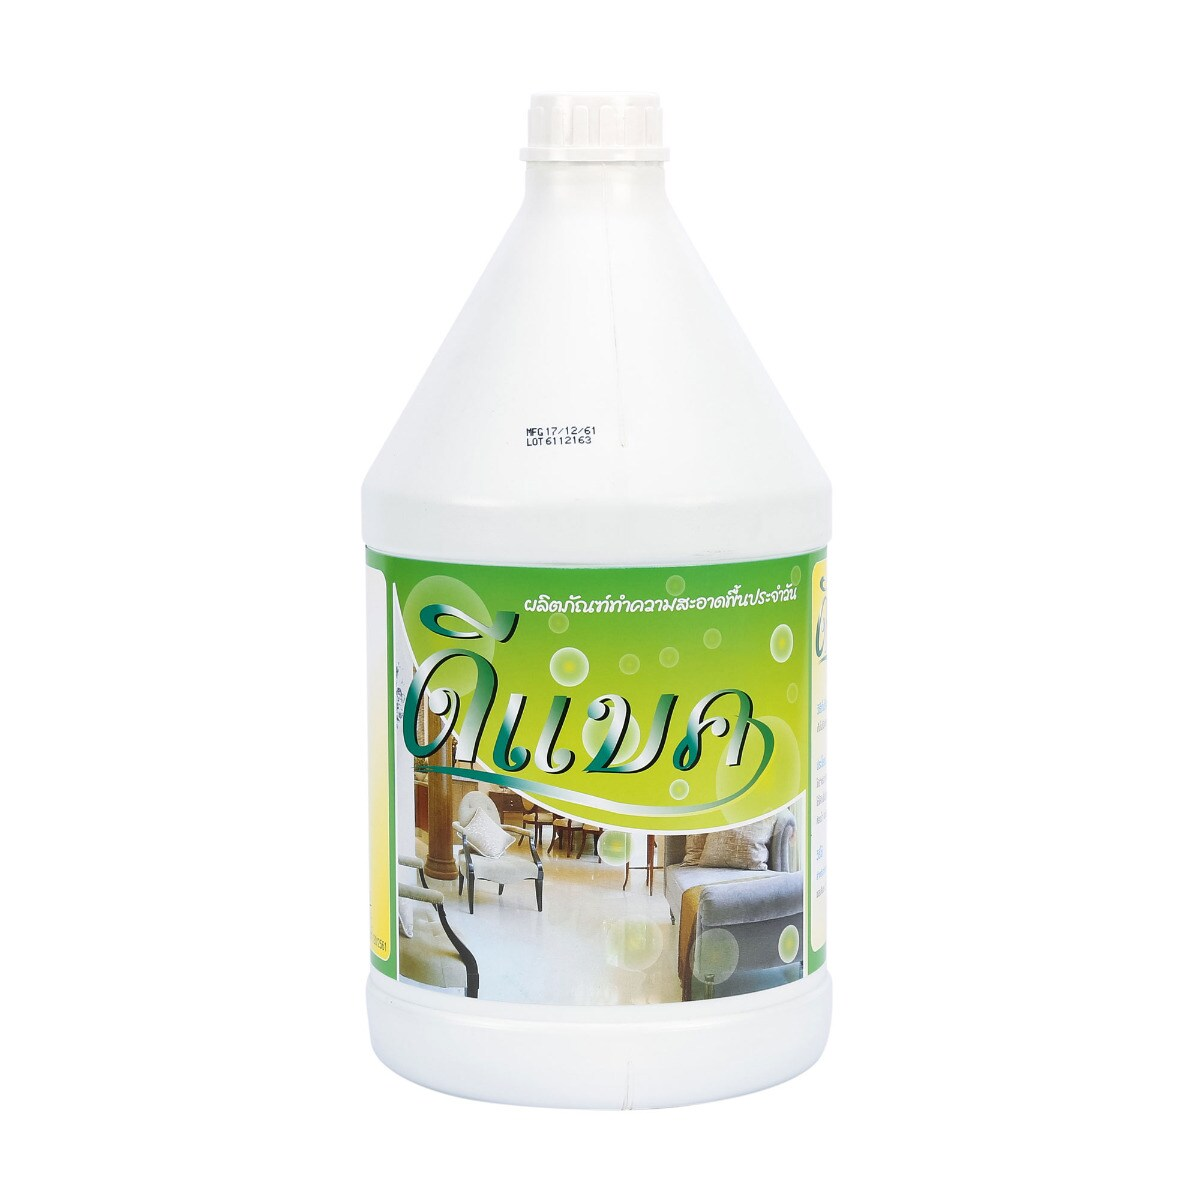Cleaning_solution: (344, 71, 844, 1123)
